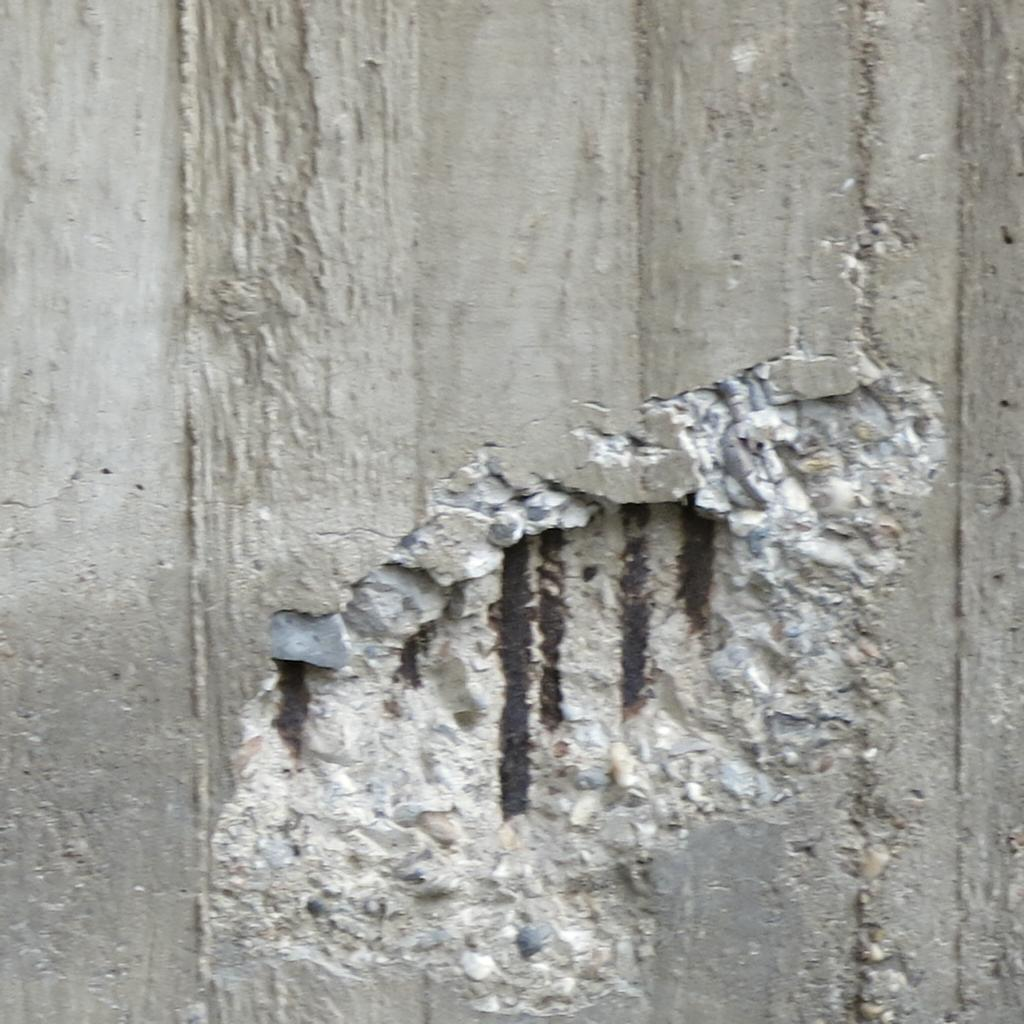exposed_rebar: (498, 540, 532, 818), (620, 504, 650, 717), (538, 528, 566, 730), (676, 502, 716, 631), (272, 660, 310, 757), (394, 622, 436, 688)
spalling: (210, 364, 944, 1011)
